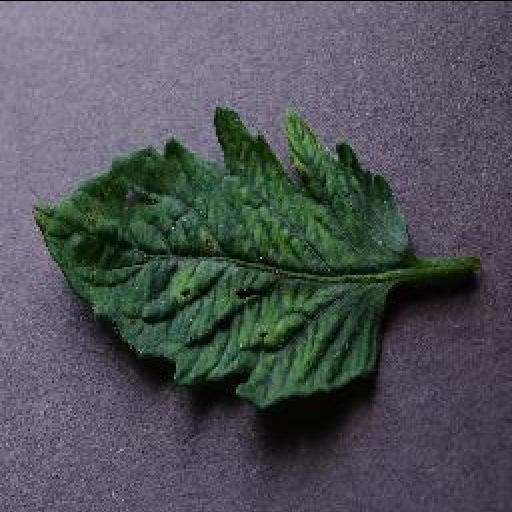disease_tomato: (30, 102, 416, 414)
